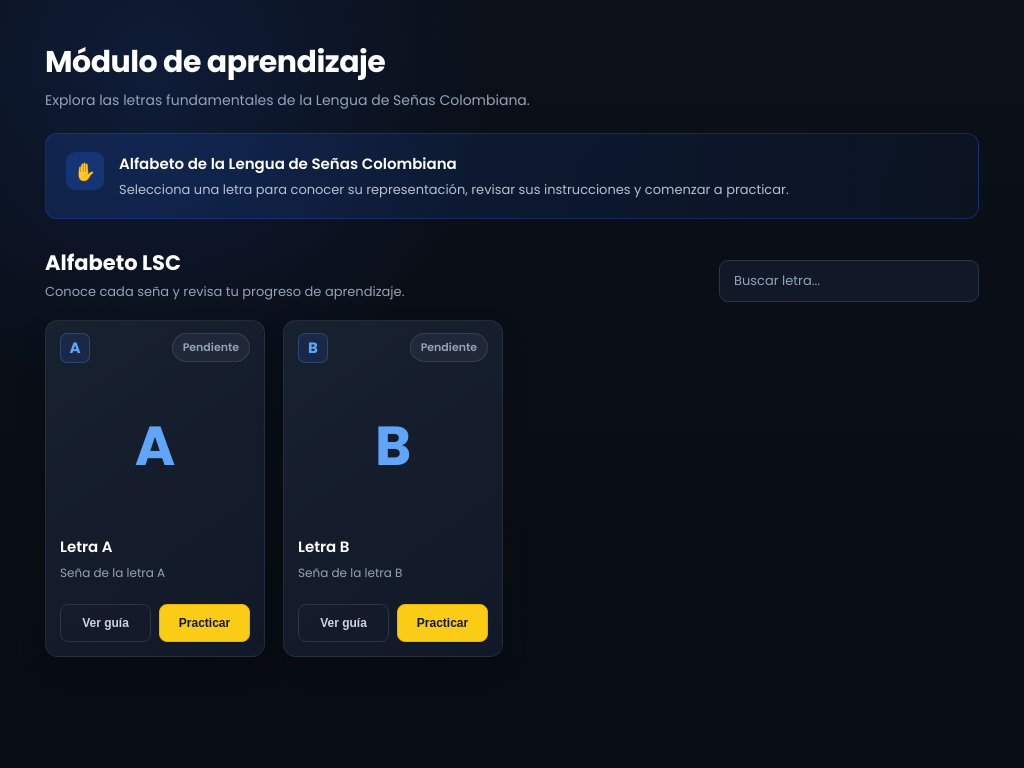
Test: Modulo Aprender › permite navegar a la siguiente letra
Click the button named "Ver detalle de la letra A" at (155, 446), box left=60, top=370, right=250, bottom=520
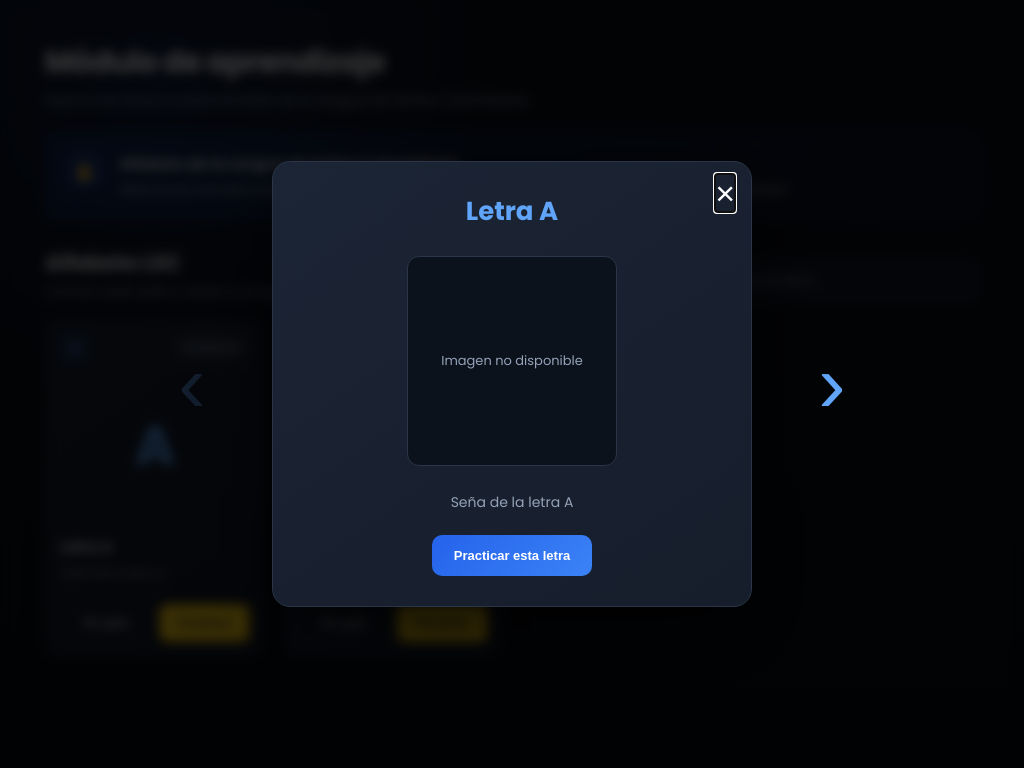
Click the button named "Siguiente letra" at (832, 384), box left=787, top=339, right=877, bottom=429
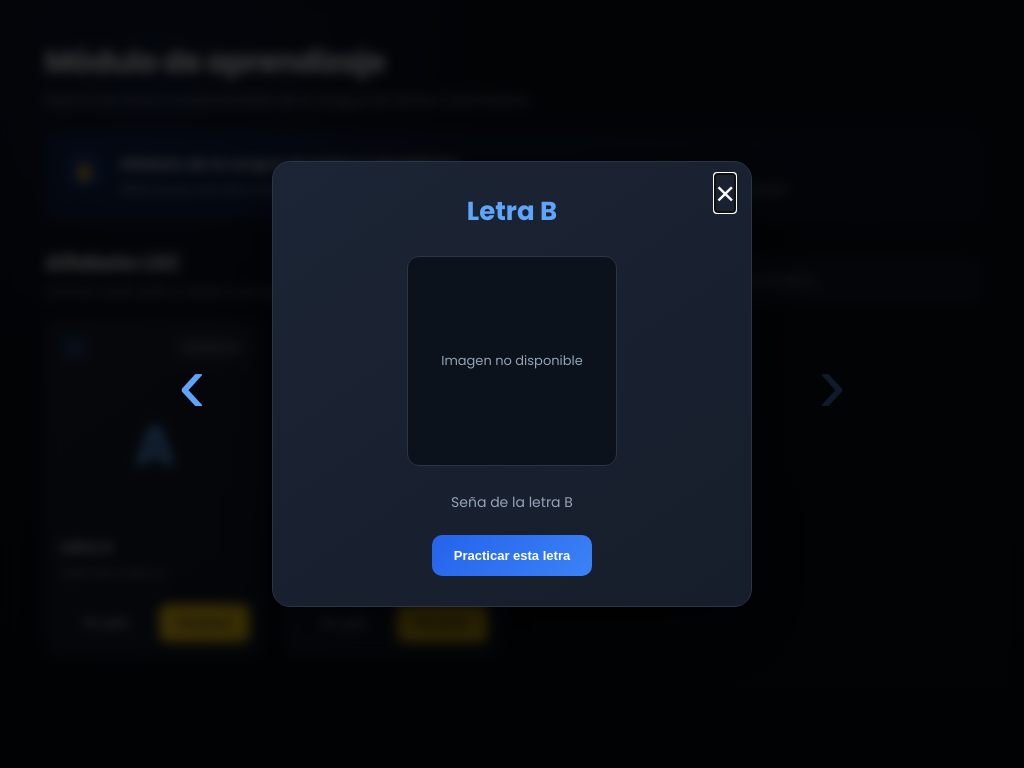
Expected: the dialog named "Detalle de la letra B" is shown
